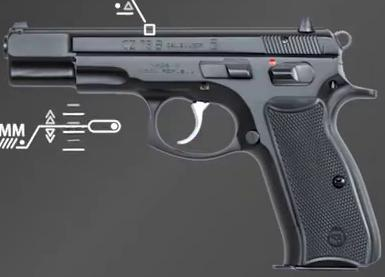gun: (1, 1, 385, 277)
